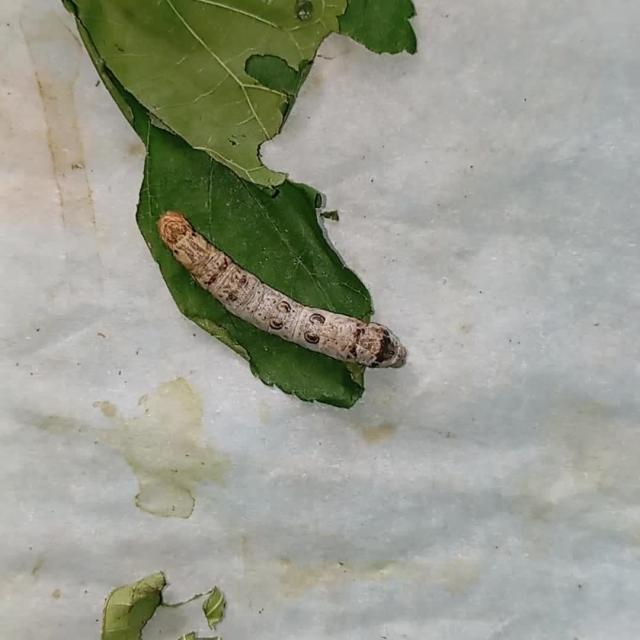Grasserie: (141, 180, 450, 418)
